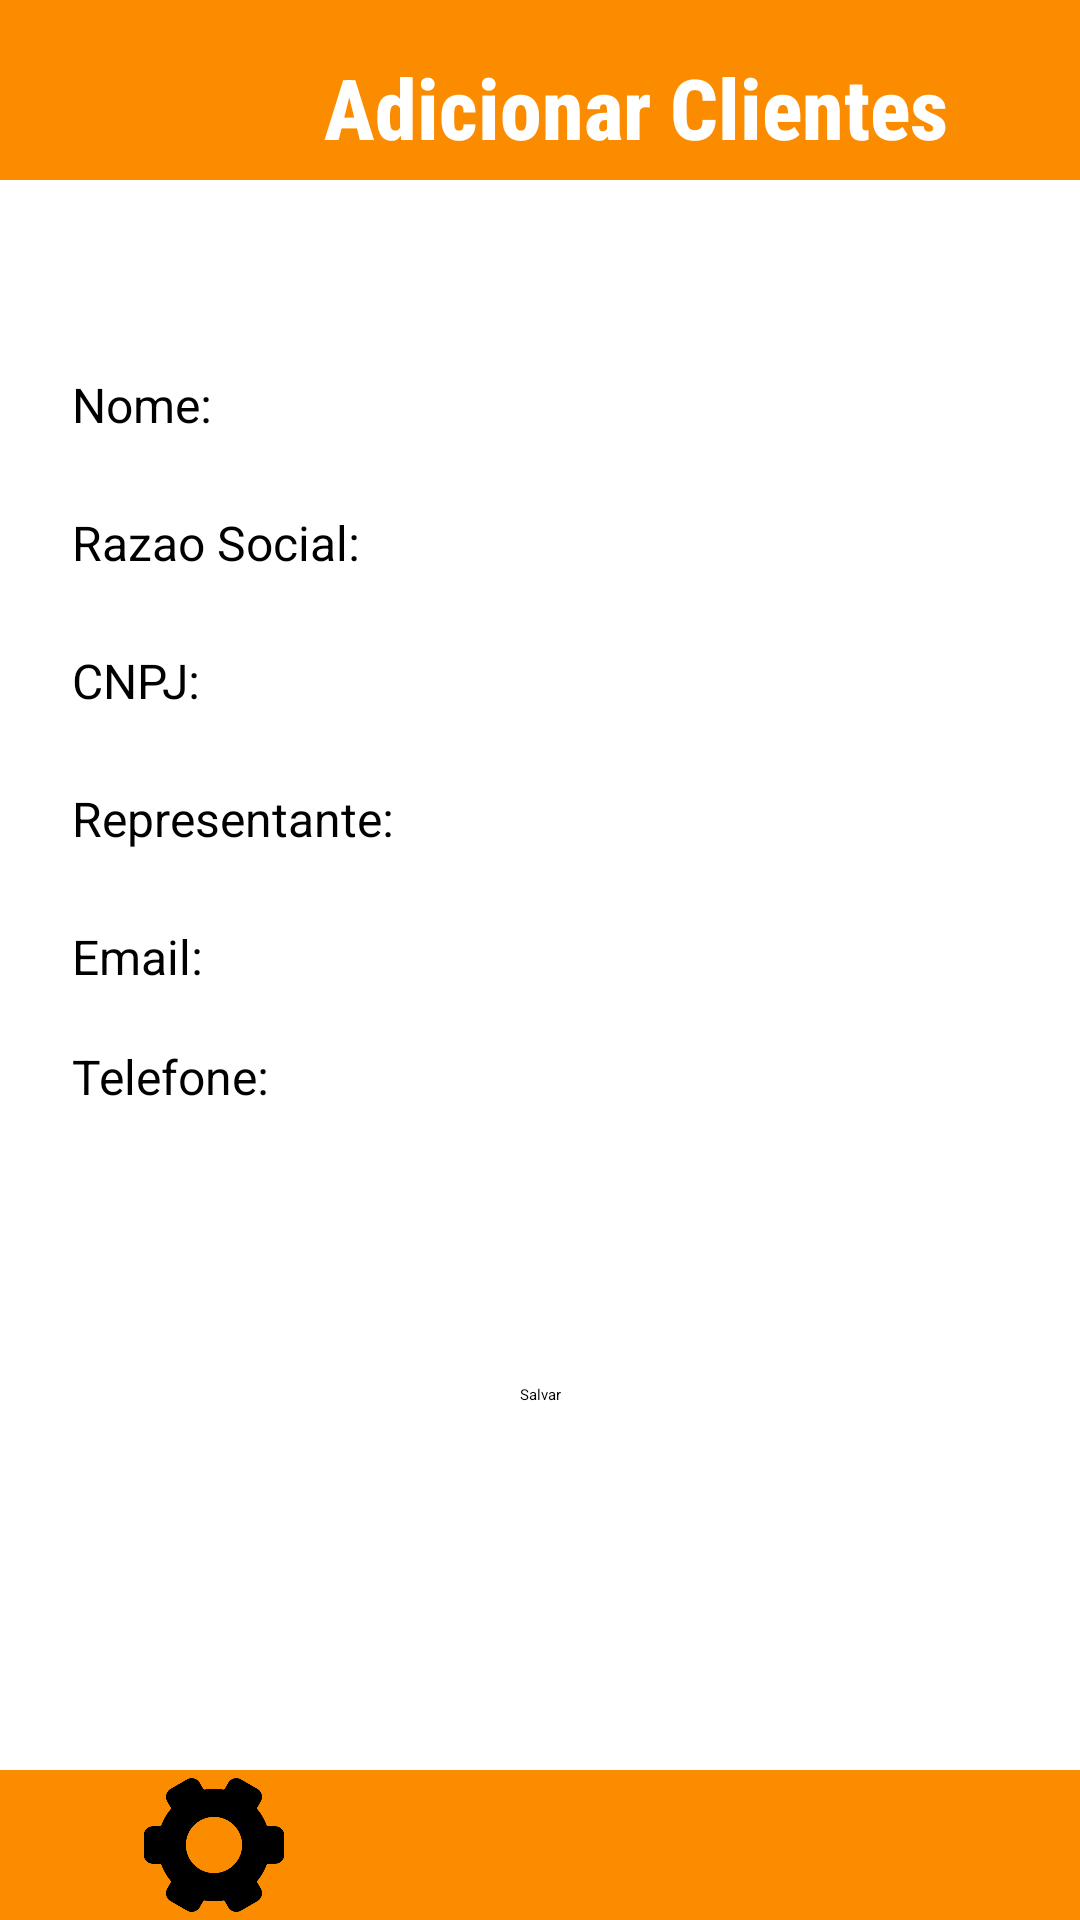

Named icons in this screenshot (1080*1920) and their centers, point (x, y):
config: point (214, 1845)
